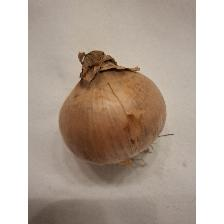Zwiebel: (57, 46, 177, 170)
